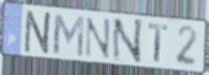2: (175, 24, 199, 69)
M: (52, 12, 86, 59)
N: (111, 18, 146, 65), (22, 9, 55, 57), (83, 16, 112, 61)
T: (147, 23, 170, 64)
